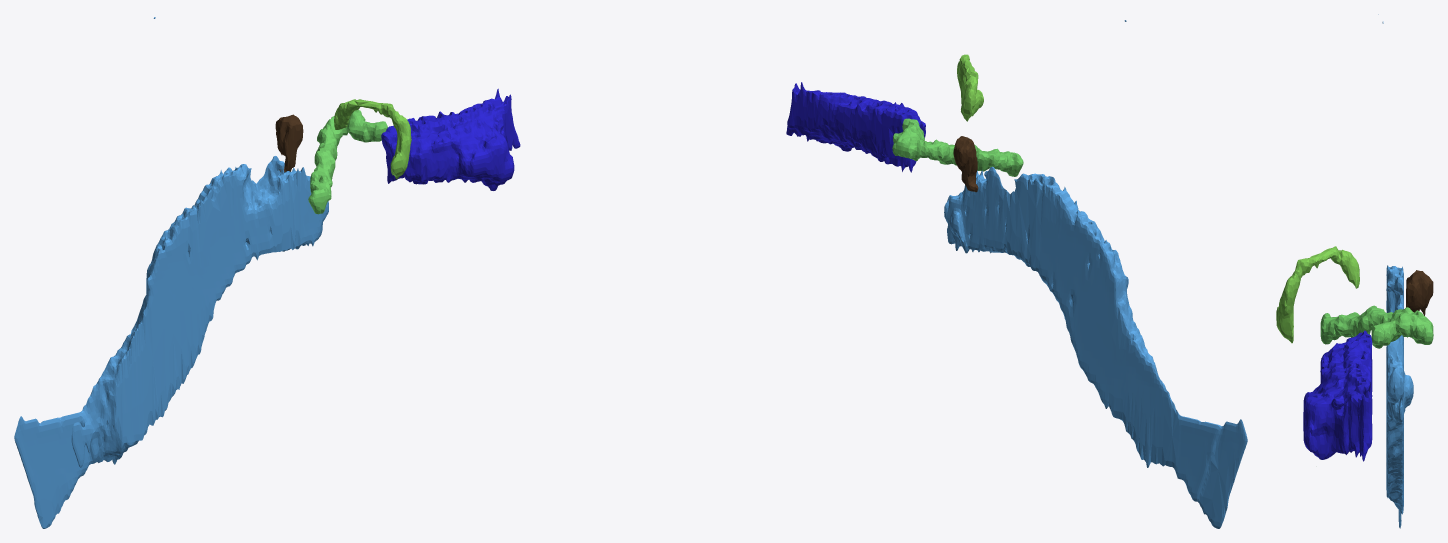
The model's file is SecondInnearEarDecimate6.fbx.
3 views of the same model, side by side, from view 1: azimuth 30°, elevation 25°; view 2: azimuth 150°, elevation 25°; view 3: azimuth 270°, elevation 25° (orthographic). The views are drawn at different scales.
Visible parts, largest first — view 1: External-Auditory-Canal-Model, Internal-Auditory-Canal-Model, Facial-nerve-model, Semicircular-canal-model, Malleus-incus-complex--model; view 2: External-Auditory-Canal-Model, Internal-Auditory-Canal-Model, Facial-nerve-model, Semicircular-canal-model, Malleus-incus-complex--model; view 3: Internal-Auditory-Canal-Model, External-Auditory-Canal-Model, Facial-nerve-model, Semicircular-canal-model, Malleus-incus-complex--model.
Boxes of the visible parts, <box> form: External-Auditory-Canal-Model: <box>14,17,328,528</box>; Internal-Auditory-Canal-Model: <box>381,88,520,190</box>; Facial-nerve-model: <box>308,110,387,214</box>; Semicircular-canal-model: <box>334,99,411,179</box>; Malleus-incus-complex--model: <box>275,114,303,172</box>; External-Auditory-Canal-Model: <box>944,20,1247,528</box>; Internal-Auditory-Canal-Model: <box>786,82,925,172</box>; Facial-nerve-model: <box>892,118,1023,176</box>; Semicircular-canal-model: <box>957,54,983,121</box>; Malleus-incus-complex--model: <box>953,136,978,192</box>; Internal-Auditory-Canal-Model: <box>1303,330,1372,461</box>; External-Auditory-Canal-Model: <box>1378,14,1413,528</box>; Facial-nerve-model: <box>1320,305,1433,348</box>; Semicircular-canal-model: <box>1276,246,1359,343</box>; Malleus-incus-complex--model: <box>1406,270,1433,315</box>.
Size of the model in its own units: 6433 by 5013 by 1254.
